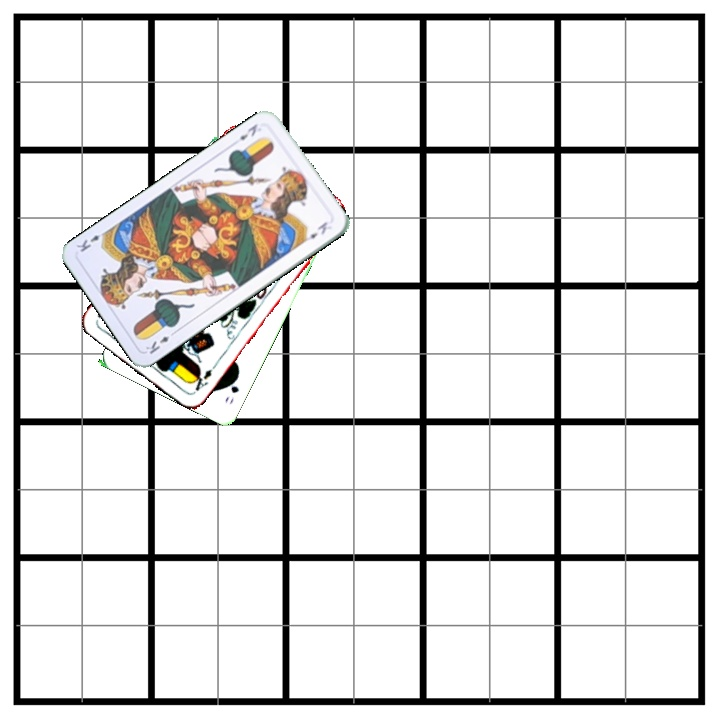EA: (188, 365, 215, 395)
EK: (141, 327, 179, 357), (235, 119, 260, 143)
GO: (221, 370, 242, 407)
